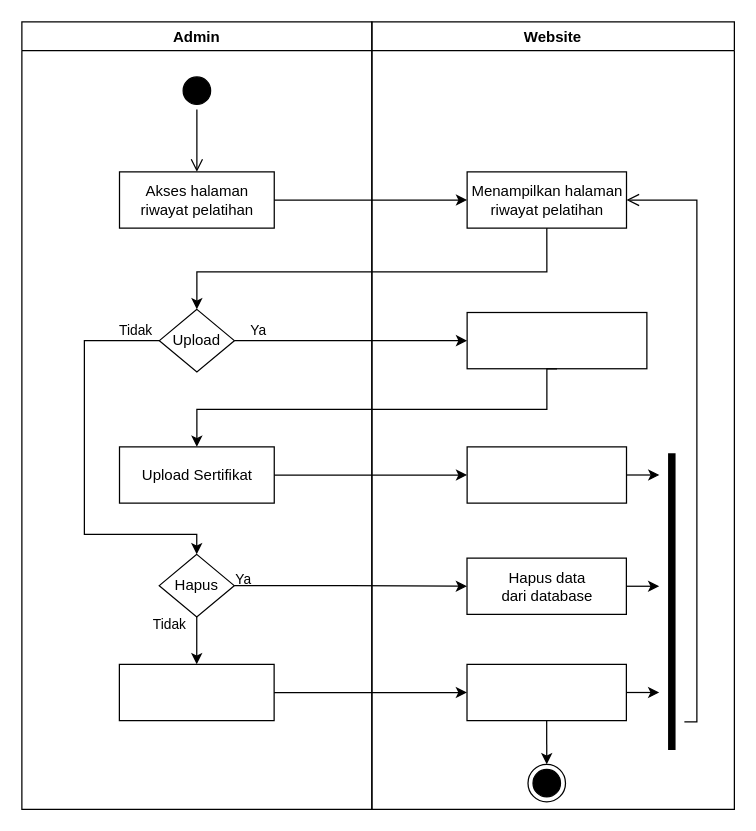
Image size: 756x831. Some labels were removed from this diagram. The shapes that lost their labels are listed below. From the top down, each one's centre as x and y in pixels, then its label:
At point 556,340: "Menampilkan halaman upload sertifikat".
At point 546,474: "Proses tambah ke database".
At point 196,692: "Lihat detail data".
At point 546,692: "Menampilkan detail data".
